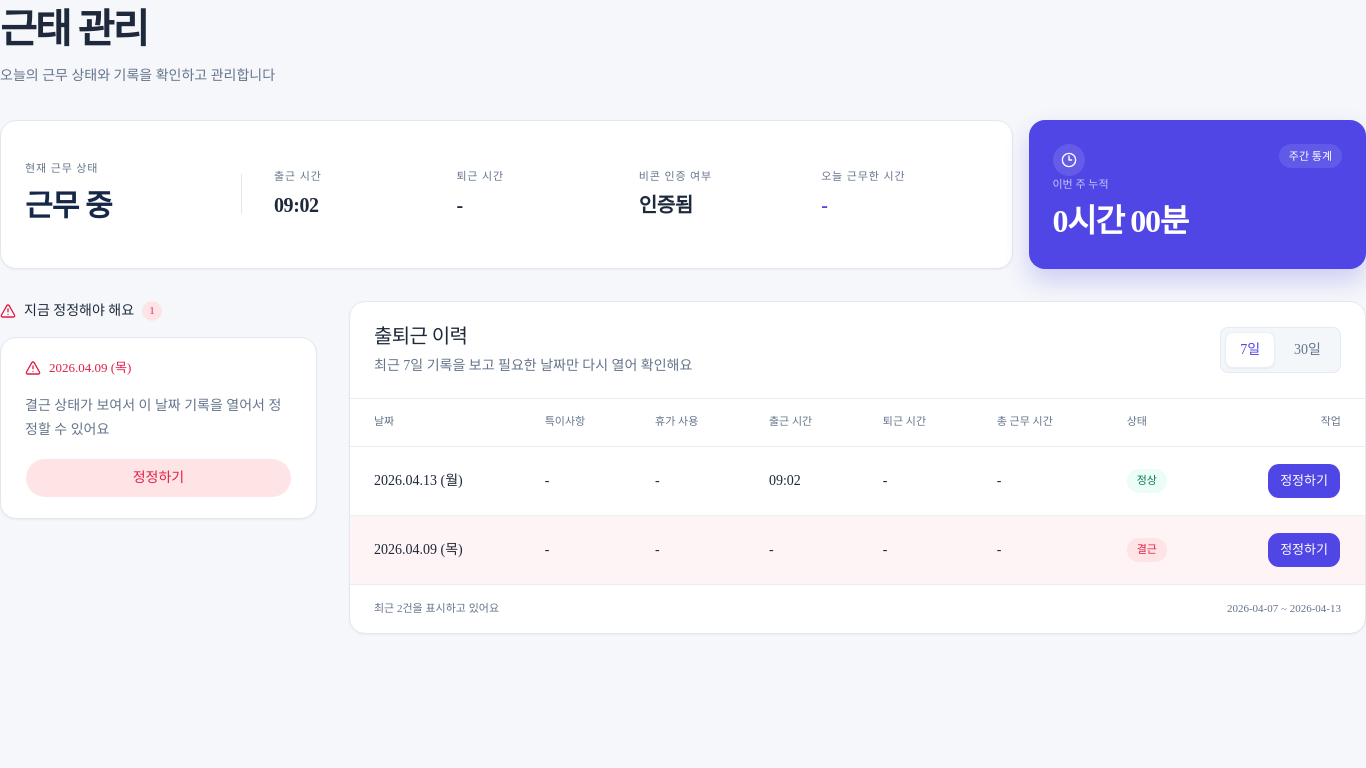
it: AttendancePageClient › reopens the shared sheet from a history-row action without displacing the today card
Click the button "정정하기" in the row of "2026.04.13 (월)": [1304, 481] box [1267, 463, 1341, 499]
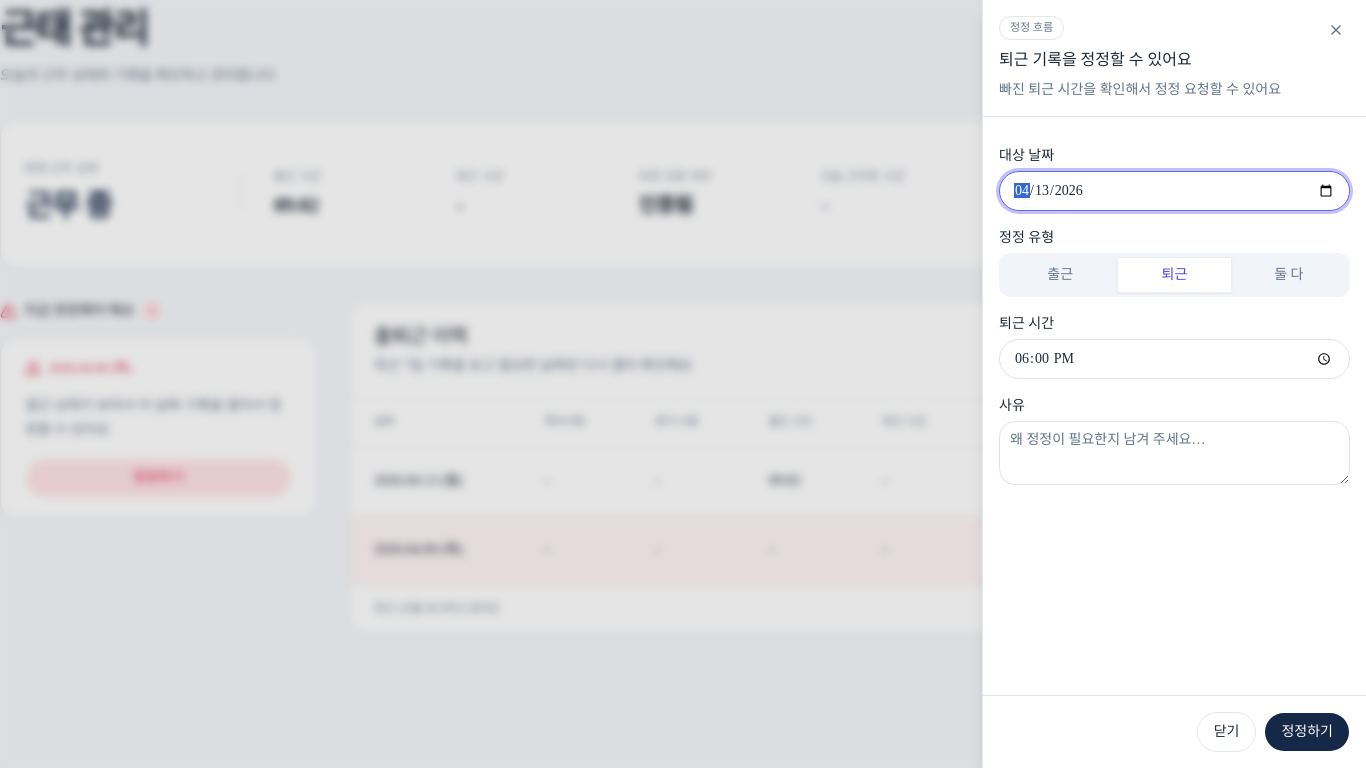
expect the heading "근태 관리" is shown: met, box [0, 7, 147, 52]
expect the heading "퇴근 기록을 정정할 수 있어요" is shown: met, box [999, 51, 1192, 68]
expect the date field labelled "대상 날짜" holds "2026-04-13": met, box [999, 171, 1350, 211]
